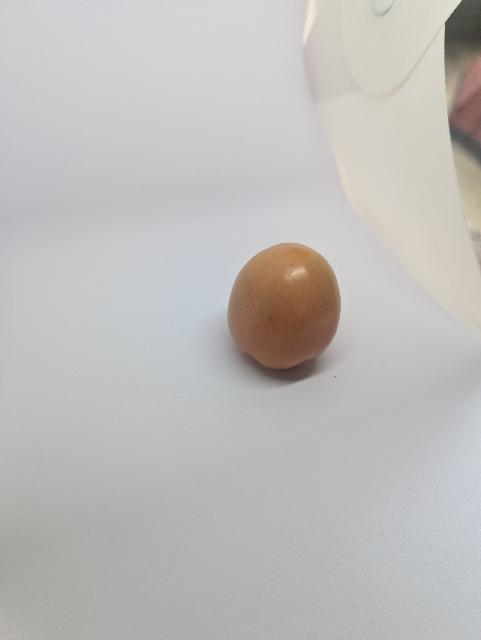turning: (228, 237, 348, 378)
